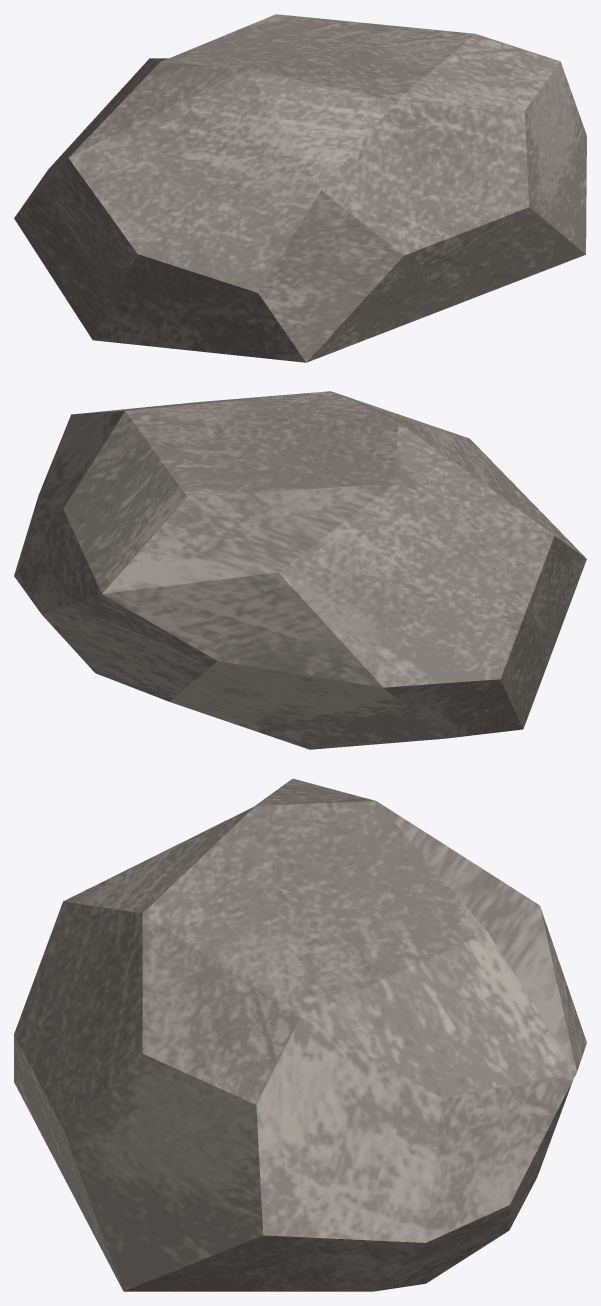
File: Piedra5.fbx
3 renders of one model, top to bottom at view 1: azimuth 30°, elevation 25°; view 2: azimuth 150°, elevation 25°; view 3: azimuth 270°, elevation 25°, orthographic. The views are drawn at different scales.
Parts seen in each view (by area): view 1: Piedra 3; view 2: Piedra 3; view 3: Piedra 3.
Boxes of the visible parts, <box> form: Piedra 3: <box>14,14,586,362</box>; Piedra 3: <box>14,391,586,749</box>; Piedra 3: <box>14,778,586,1291</box>.
Size of the model in its own units: 345 by 175 by 251.
